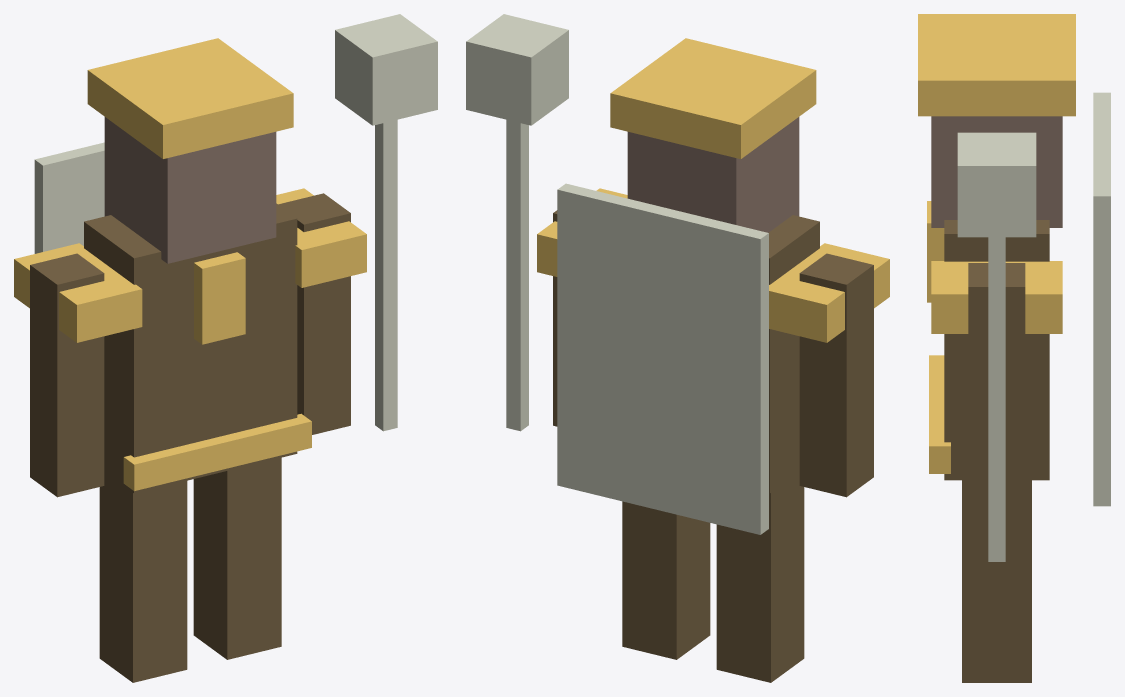
Rendered from 08_brant_dubwater_warden_from_ranger.glb.
The picture shows the model from 3 angles, left to right: view 1: azimuth 30°, elevation 25°; view 2: azimuth 150°, elevation 25°; view 3: azimuth 270°, elevation 25°; orthographic projection. The views are drawn at different scales.
Parts seen in each view (by area): view 1: Brant Dubwater, Warden from Ranger; view 2: Brant Dubwater, Warden from Ranger; view 3: Brant Dubwater, Warden from Ranger.
Boxes of the visible parts, x1=… form: Brant Dubwater, Warden from Ranger: x1=14, y1=14, x2=437, y2=682; Brant Dubwater, Warden from Ranger: x1=466, y1=14, x2=889, y2=682; Brant Dubwater, Warden from Ranger: x1=918, y1=14, x2=1110, y2=682.
Size of the model in its own units: 1.06 by 1.54 by 0.4513.
